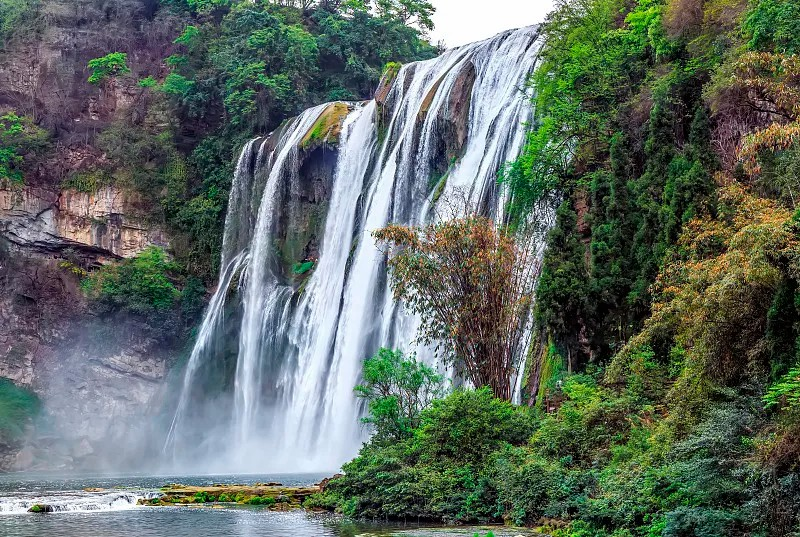Huangguoshu: (170, 27, 554, 474)
